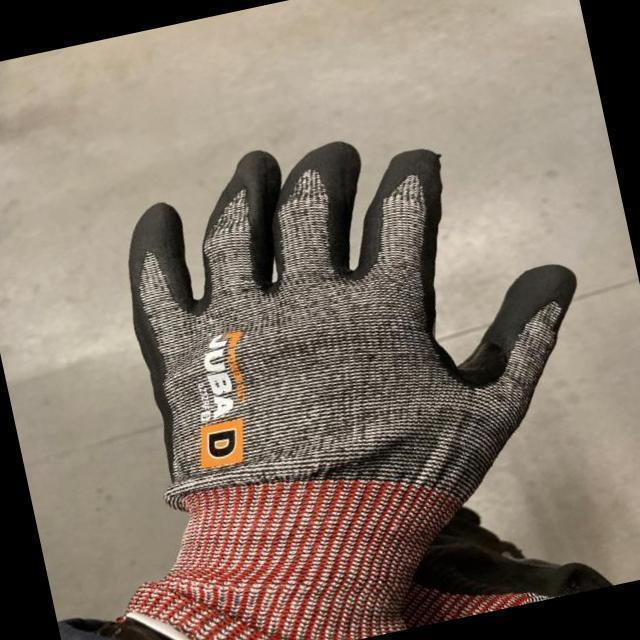gloved_hand: (49, 82, 633, 640)
